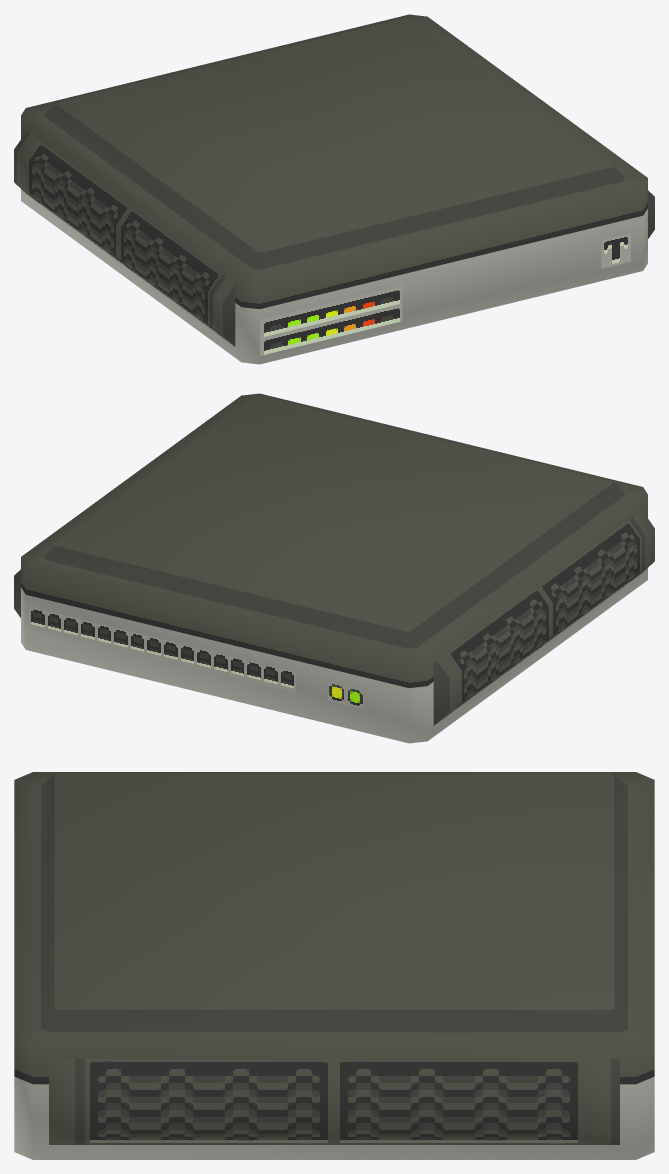
Rendered from switch.glb.
3 views of the same model, one above another, from view 1: azimuth 30°, elevation 25°; view 2: azimuth 150°, elevation 25°; view 3: azimuth 270°, elevation 25° (orthographic). The views are drawn at different scales.
Visible parts, largest first — view 1: Plane.062, Plane.064, Plane.068; view 2: Plane.062, Plane.063; view 3: Plane.062.
Part boxes in pixels (x1,y1,x2,y2): Plane.062: [14, 14, 654, 364]; Plane.064: [260, 285, 402, 355]; Plane.068: [601, 233, 630, 268]; Plane.062: [14, 393, 654, 743]; Plane.063: [29, 607, 364, 708]; Plane.062: [14, 772, 654, 1159].
Size of the model in its own units: 0.5314 by 0.1277 by 0.499.
1 material, 1 textured.
